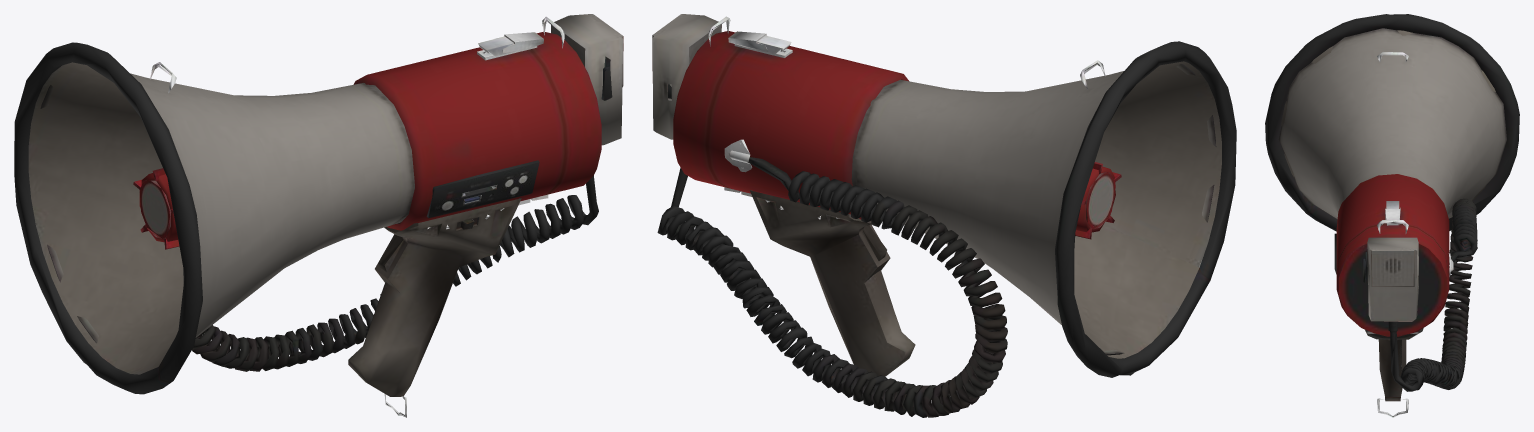
File: megaphone_01.glb
3 views of the same model, side by side, from view 1: azimuth 30°, elevation 25°; view 2: azimuth 150°, elevation 25°; view 3: azimuth 270°, elevation 25° (orthographic). The views are drawn at different scales.
Visible parts, largest first — view 1: Megaphone_01; view 2: Megaphone_01; view 3: Megaphone_01.
Boxes of the visible parts, bbox=[...] form: Megaphone_01: bbox=[14, 14, 623, 417]; Megaphone_01: bbox=[652, 14, 1236, 417]; Megaphone_01: bbox=[1265, 14, 1519, 417].
Size of the model in its own units: 0.3707 by 0.2998 by 0.2277.
1 material, 1 textured.
